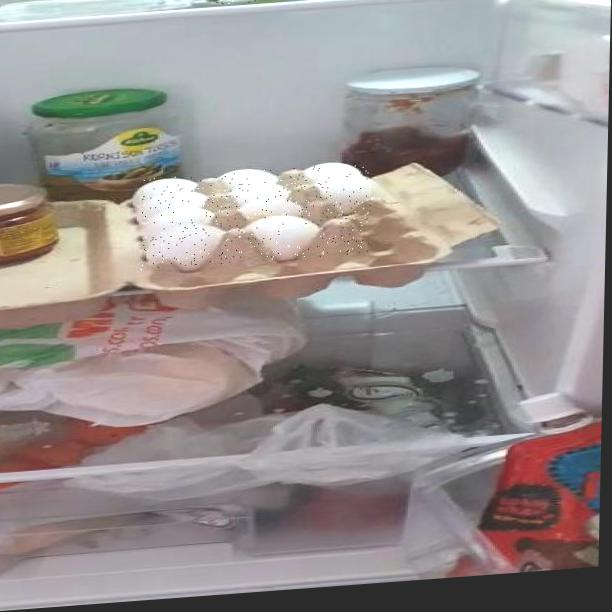eggs: (140, 162, 373, 270)
green chilies: (215, 0, 579, 5)
